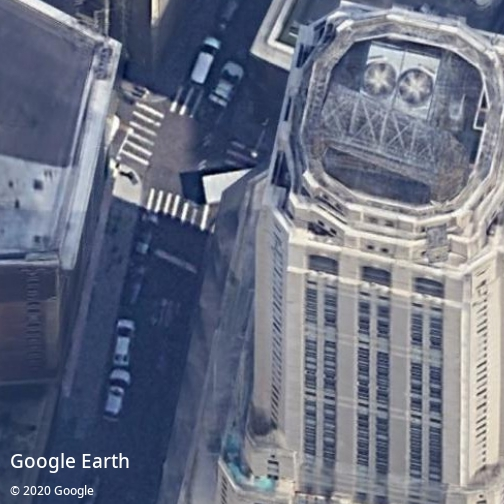Vent: (398, 70, 433, 106), (363, 62, 396, 97)
